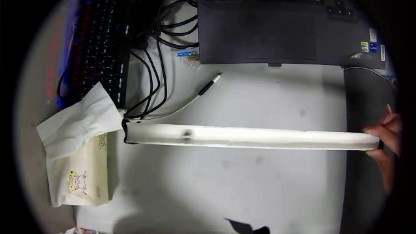gangzhu: (180, 131, 191, 141)
